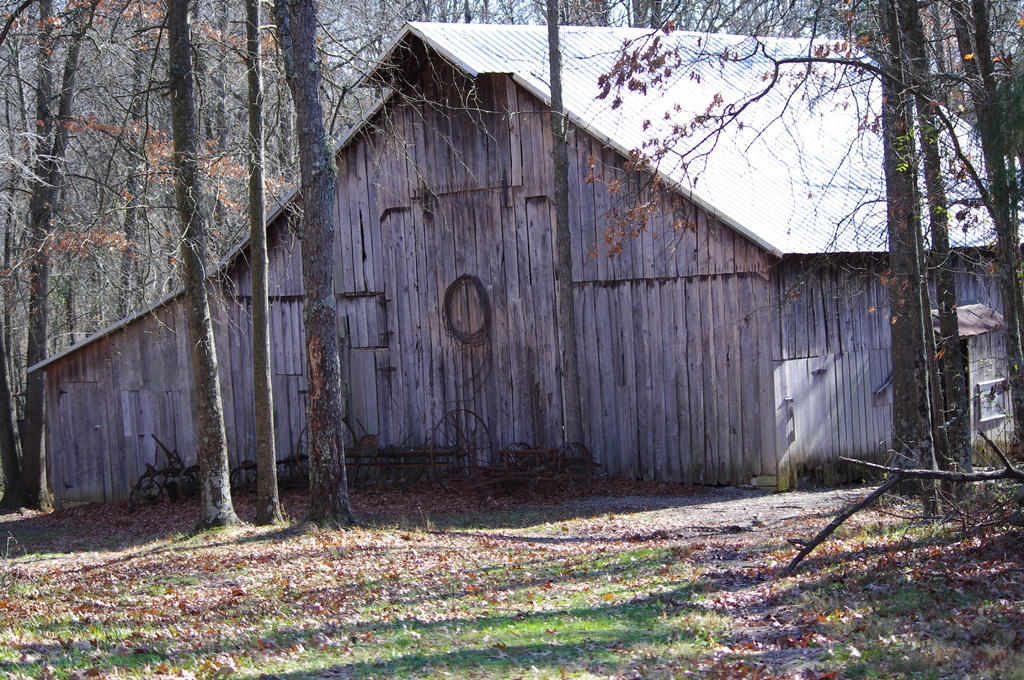Tree: (0, 0, 526, 539), (565, 0, 1023, 524), (532, 0, 596, 487)
